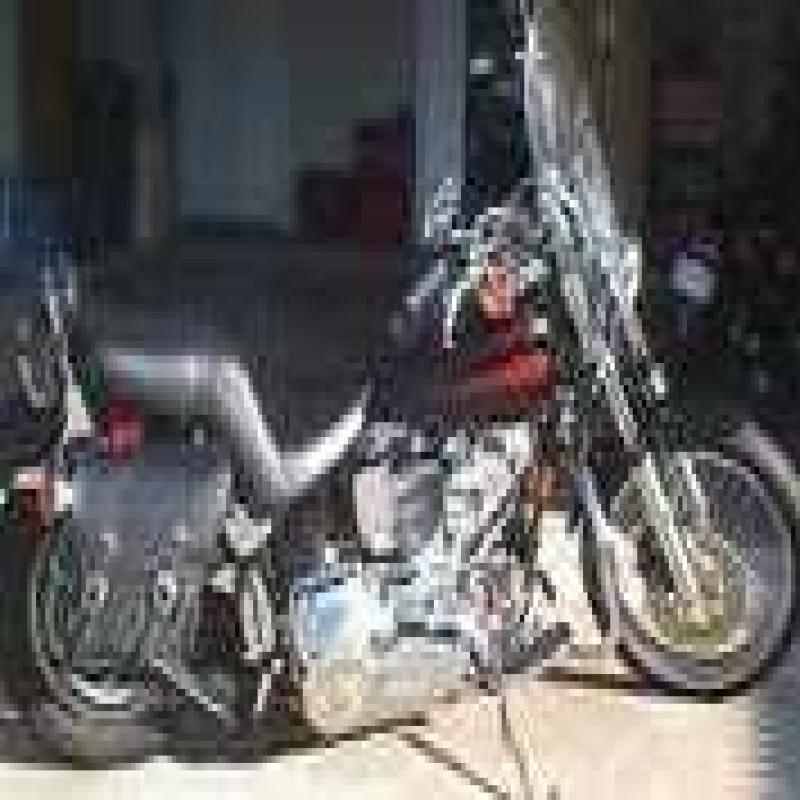bike: (13, 12, 747, 754)
